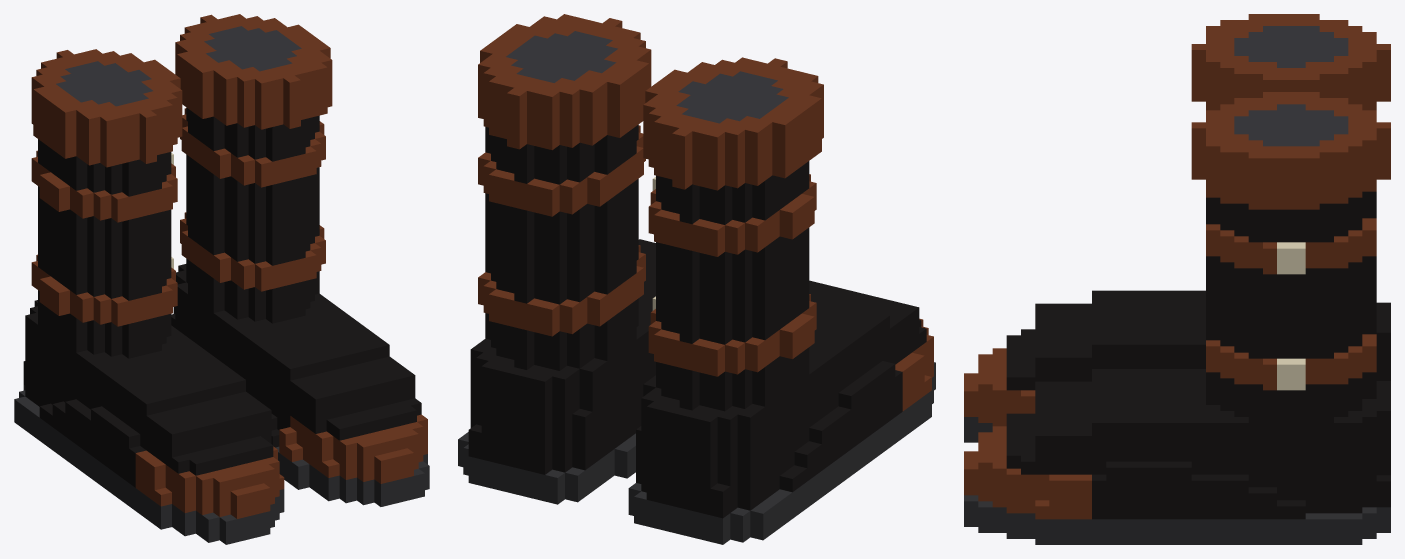
File: boots_black_dragon_hide.glb
The picture shows the model from 3 angles, left to right: view 1: azimuth 30°, elevation 25°; view 2: azimuth 150°, elevation 25°; view 3: azimuth 270°, elevation 25°; orthographic projection. The views are drawn at different scales.
Parts seen in each view (by area): view 1: boots_black_dragon_hide:compound; view 2: boots_black_dragon_hide:compound; view 3: boots_black_dragon_hide:compound.
Part boxes in pixels (bbox=[...]): boots_black_dragon_hide:compound: bbox=[14, 14, 429, 544]; boots_black_dragon_hide:compound: bbox=[458, 14, 935, 544]; boots_black_dragon_hide:compound: bbox=[964, 14, 1390, 544].
Bounding box in the file's own units: 0.24 × 0.3 × 0.3.
